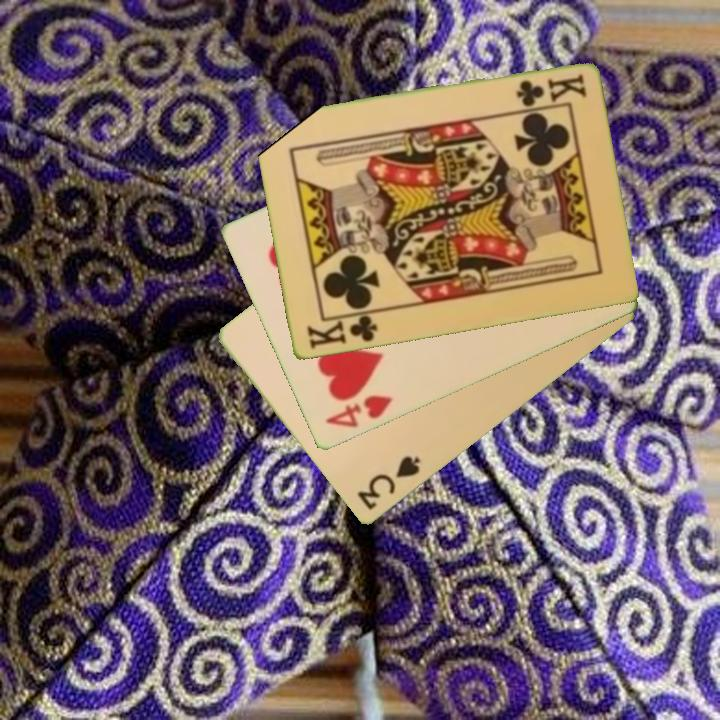3s: (353, 452, 423, 514)
4h: (321, 392, 395, 432)
Kc: (303, 308, 380, 353), (512, 71, 589, 109)
